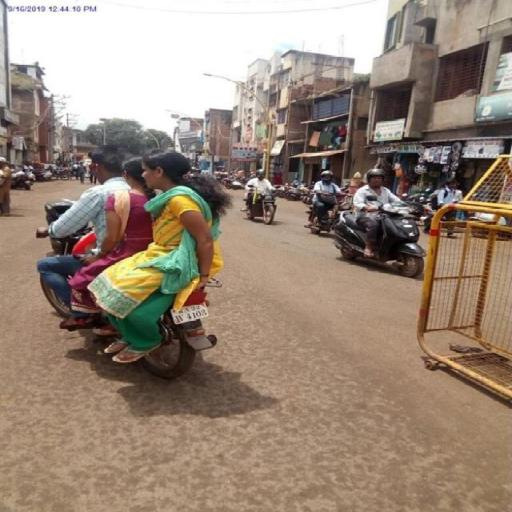tripple riding: (34, 144, 228, 294)
